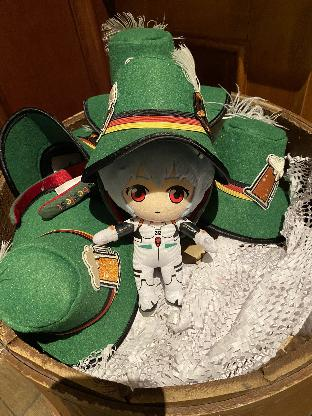rei-plush: (88, 138, 220, 318)
